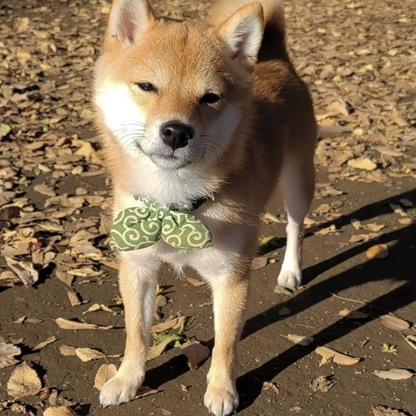shiba: (86, 1, 331, 416)
